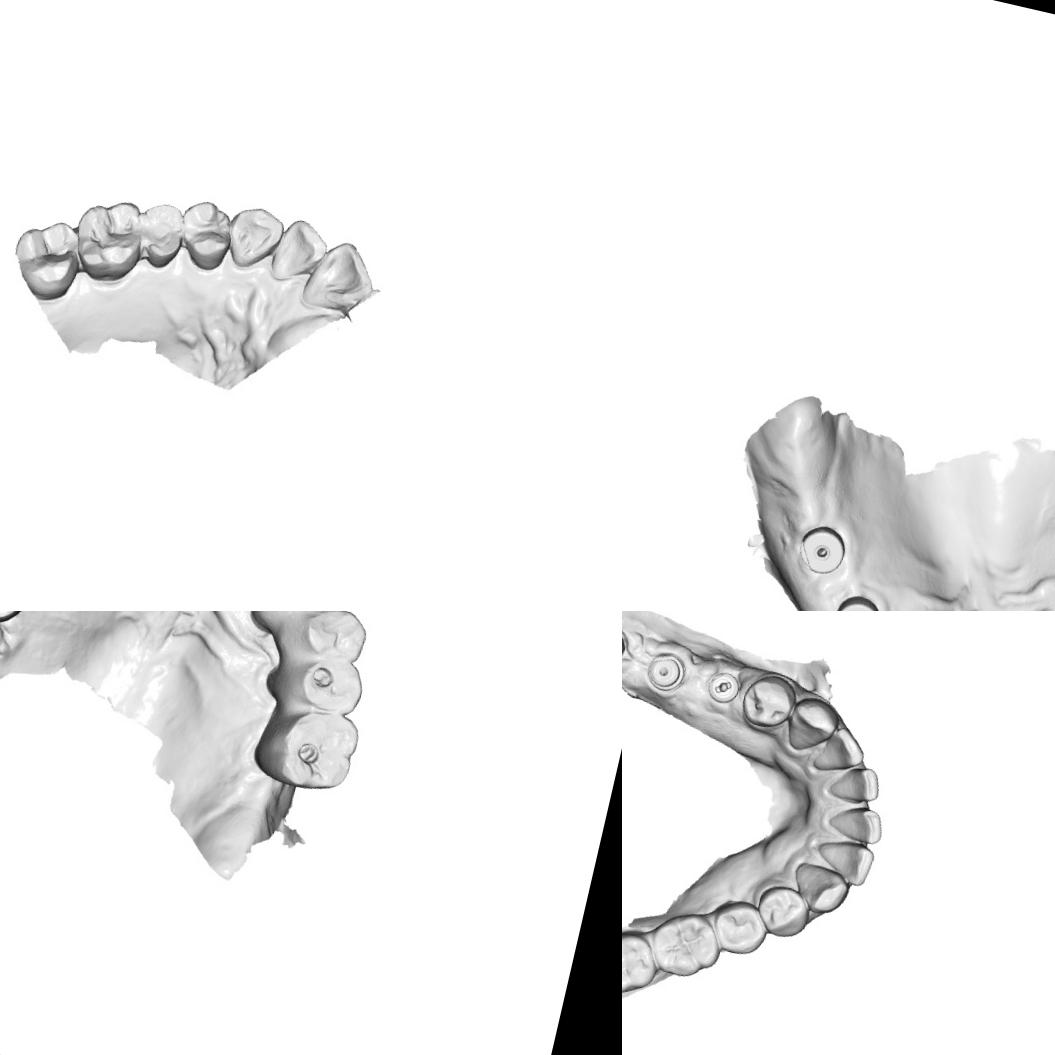canine: (218, 198, 290, 276), (781, 692, 843, 760), (788, 859, 855, 919), (265, 611, 362, 630)
implant: (794, 520, 850, 580), (641, 646, 692, 696), (828, 589, 886, 611)
implant_minus: (702, 668, 744, 708)
incisor: (298, 232, 384, 320), (266, 212, 331, 290), (810, 720, 870, 780), (811, 834, 877, 888), (824, 800, 888, 848), (826, 759, 885, 810)
molar: (243, 695, 363, 799), (66, 189, 151, 289), (3, 212, 88, 307), (644, 904, 728, 985), (622, 923, 665, 1002)
premolar: (267, 643, 371, 722), (279, 611, 374, 669), (172, 196, 239, 276), (127, 195, 186, 274), (707, 894, 773, 960), (736, 668, 802, 734), (751, 880, 815, 943)
